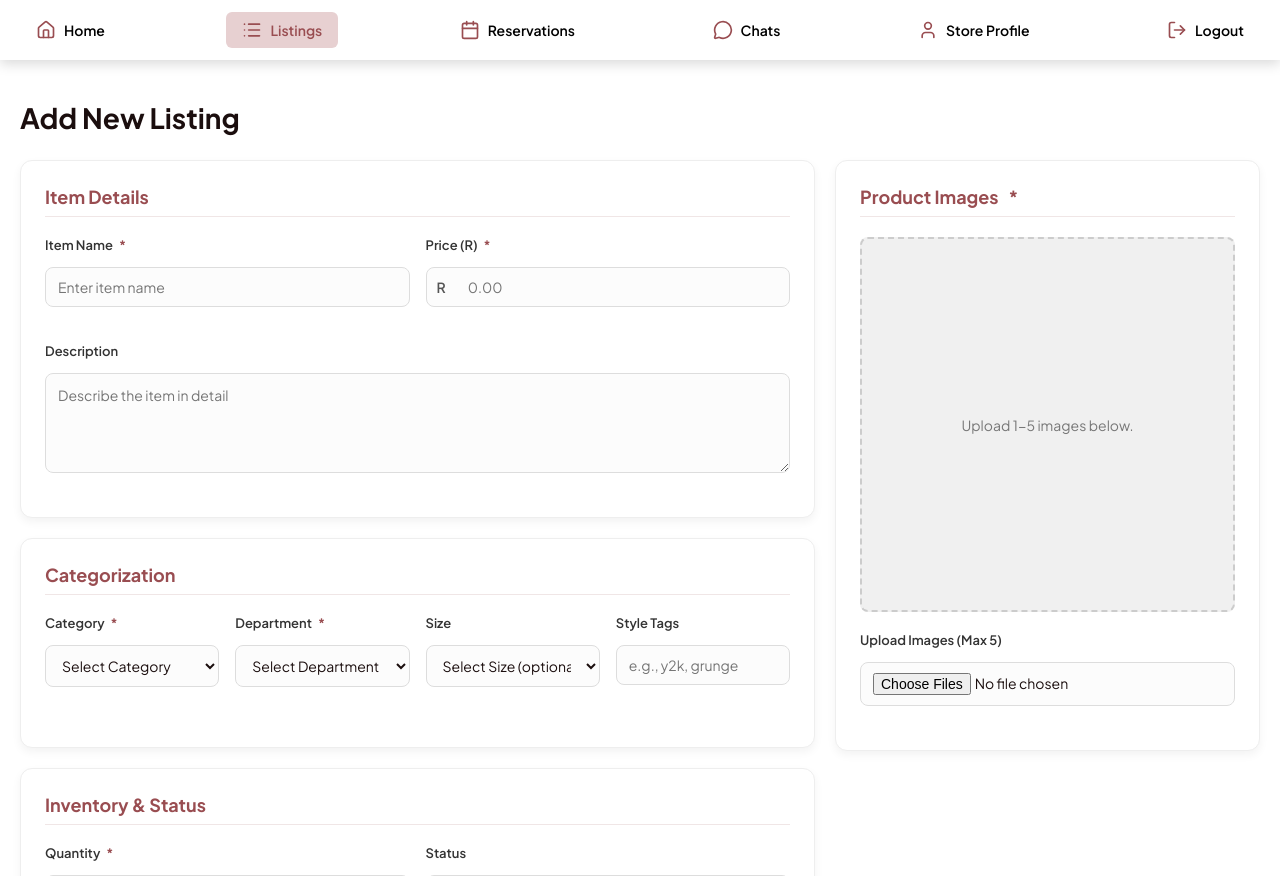
Test: AddListing › Form Validation › clears errors when valid input is provided
The width and height of the screenshot is (1280, 876).
// First, trigger an error
Type "-10" into the number field labelled "Price (R) *".
click(622, 287); type("-10")  # box [456, 268, 789, 306]
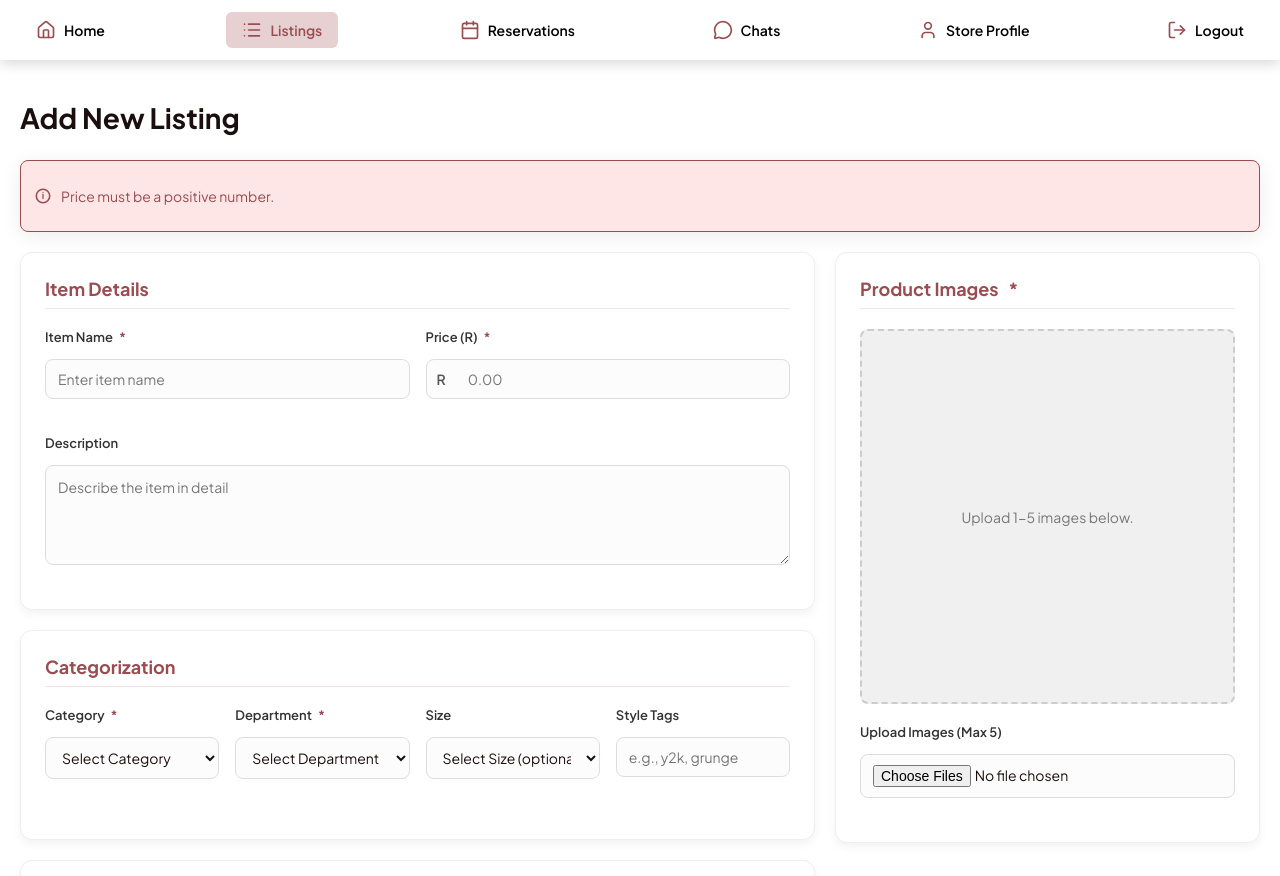
Expected: the text "Price must be a positive number." is shown, [61, 187, 274, 205]
// Then provide valid input
Type "100" into the number field labelled "Price (R) *".
click(622, 379); type("100")  # box [456, 360, 789, 398]
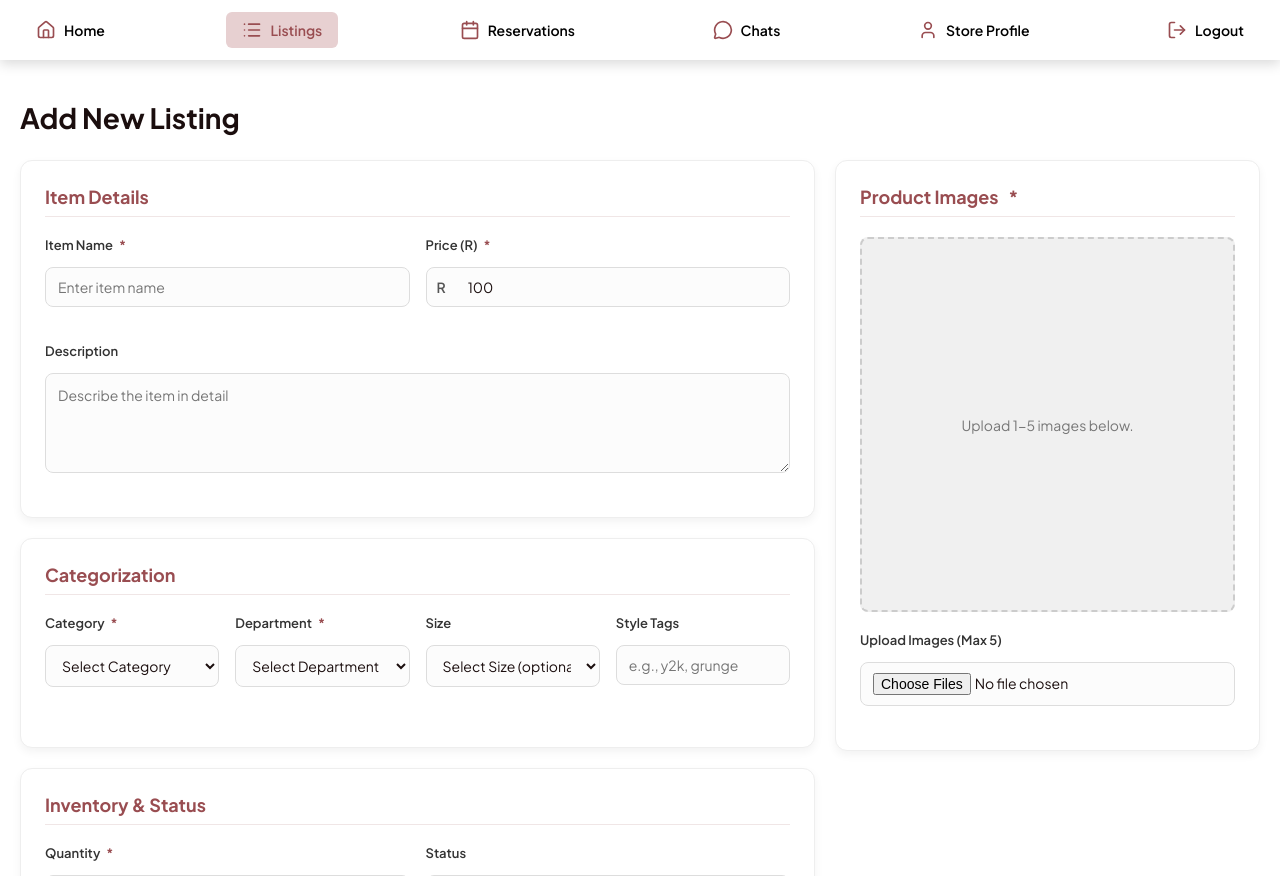
Expected: the text "Price must be a positive number." is gone
